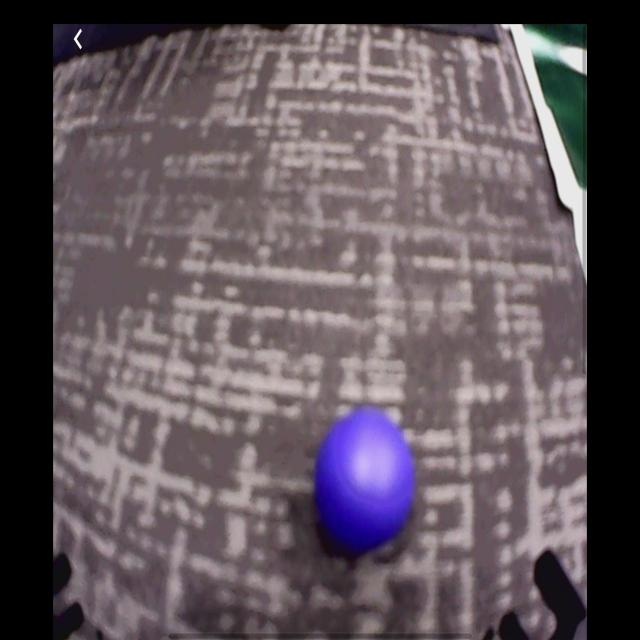ball: (315, 411, 416, 549)
